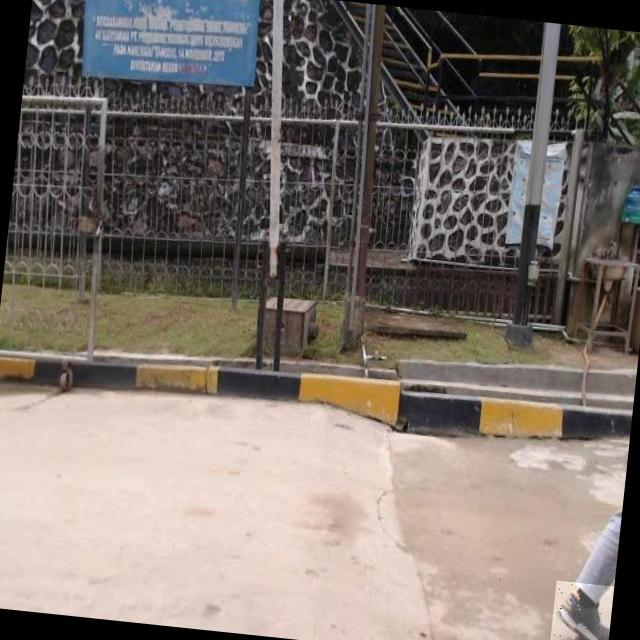Safety Boot: (548, 580, 613, 640)
